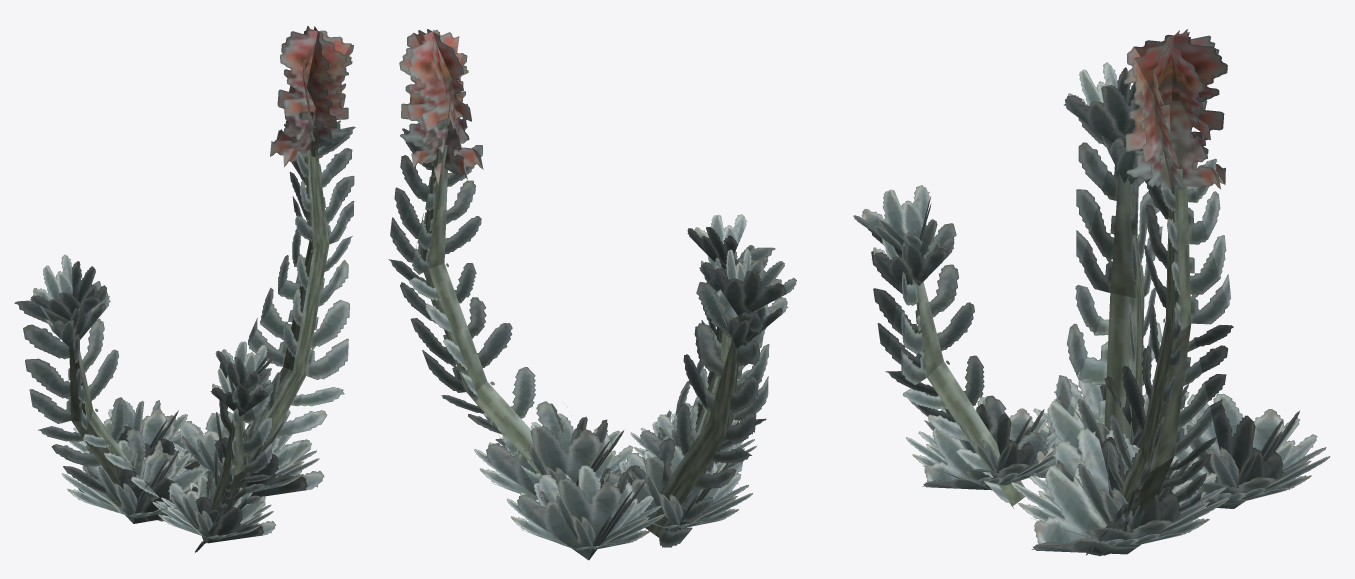
Rendered from C2SNORGB.obj.
The picture shows the model from 3 angles, left to right: view 1: azimuth 30°, elevation 25°; view 2: azimuth 150°, elevation 25°; view 3: azimuth 270°, elevation 25°; orthographic projection. The views are drawn at different scales.
Parts seen in each view (by area): view 1: Node 0; view 2: Node 0; view 3: Node 0.
Boxes of the visible parts, bbox=[...] form: Node 0: bbox=[14, 26, 355, 552]; Node 0: bbox=[388, 29, 796, 560]; Node 0: bbox=[853, 29, 1330, 556].
Bounding box in the file's own units: 1.33 × 1.52 × 1.18.
1 material, 1 textured.
